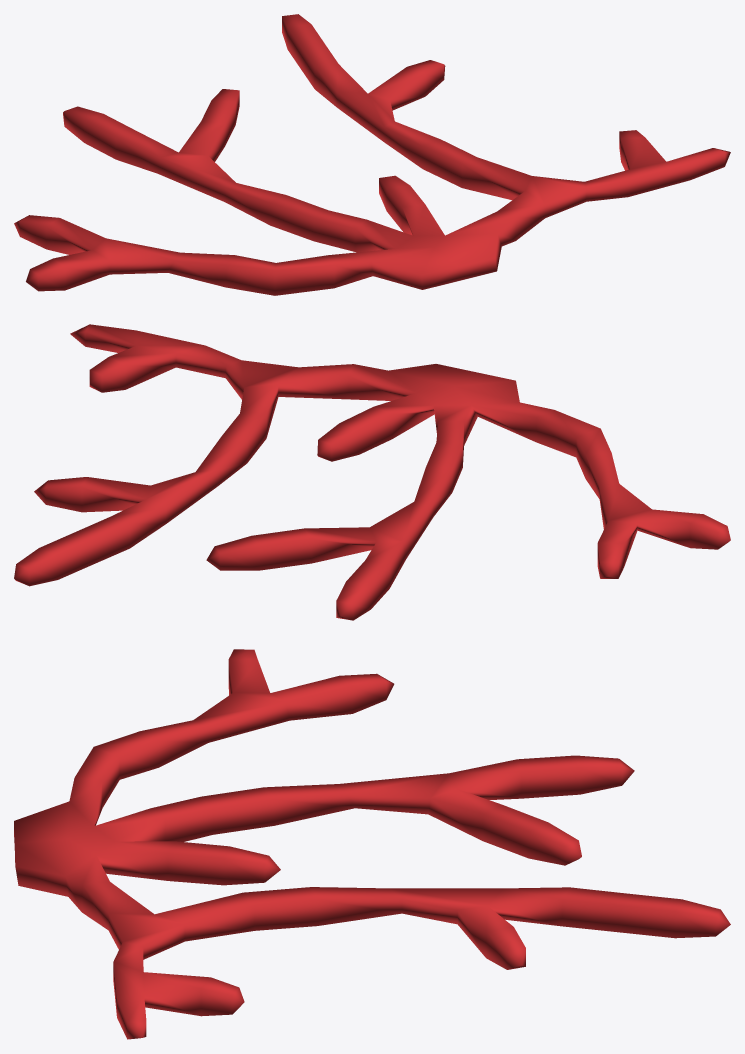
Rendered from coral02.fbx.
The picture shows the model from 3 angles, top to bottom: view 1: azimuth 30°, elevation 25°; view 2: azimuth 150°, elevation 25°; view 3: azimuth 270°, elevation 25°; orthographic projection. The views are drawn at different scales.
Visible parts, largest first — view 1: Coral02; view 2: Coral02; view 3: Coral02.
Boxes of the visible parts, x1,y1,x2,y2 form: Coral02: [14, 14, 730, 295]; Coral02: [14, 324, 730, 620]; Coral02: [14, 649, 730, 1039].
Bounding box in the file's own units: 807 × 29.43 × 637.
